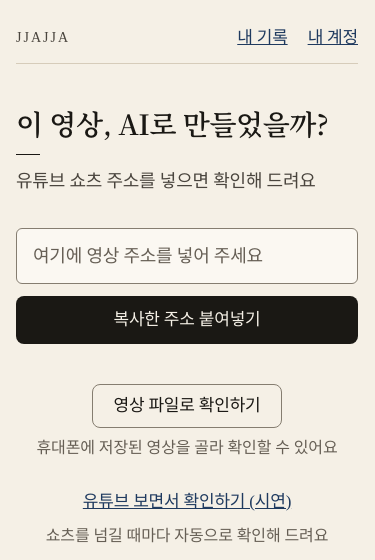
Test case: App: 로그인 필수 흐름 › 내 기록: 비었으면 안내
Click the button "내 기록" at (262, 38), box [237, 16, 288, 60]
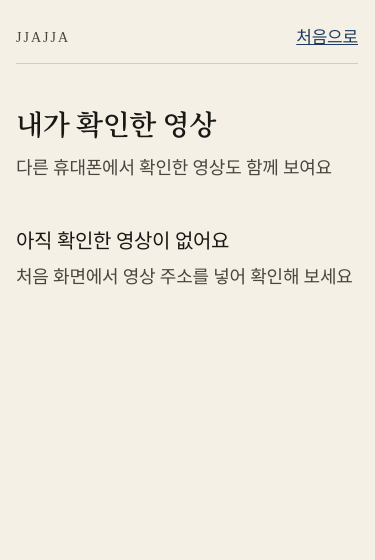
Expected: the text "아직 확인한 영상이 없어요" is shown, [16, 230, 229, 252]
